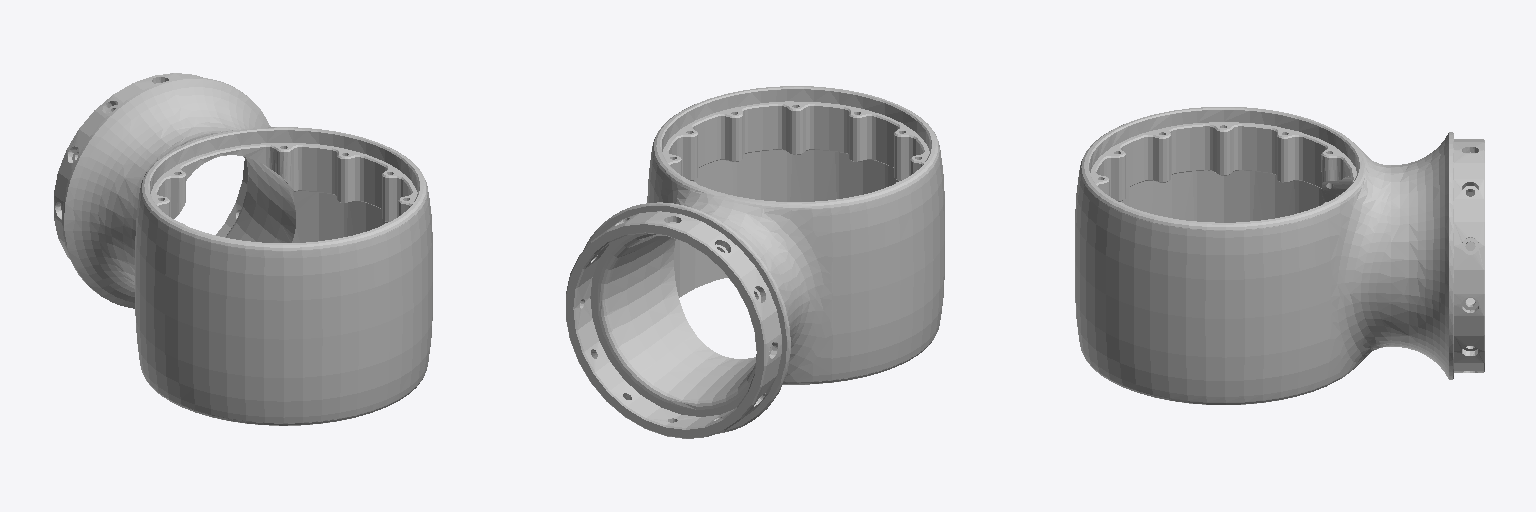
File: left_arm_link1.obj
3 views of the same model, side by side, from view 1: azimuth 30°, elevation 25°; view 2: azimuth 150°, elevation 25°; view 3: azimuth 270°, elevation 25° (orthographic).
Parts seen in each view (by area): view 1: Link1; view 2: Link1; view 3: Link1.
Part boxes in pixels (left/top/right/bottom): Link1: left=54, top=73, right=432, bottom=425; Link1: left=566, top=86, right=944, bottom=438; Link1: left=1075, top=107, right=1484, bottom=404.
Size of the model in its own units: 0.0998 by 0.083 by 0.1374.